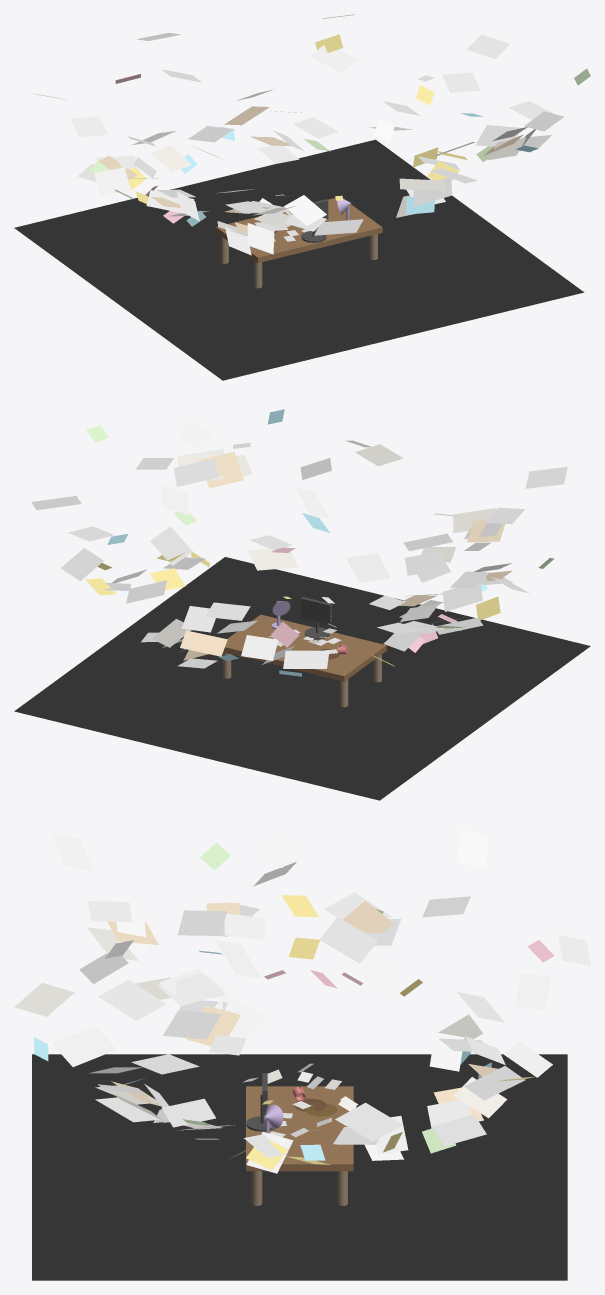
The model's file is desk2.glb.
3 views of the same model, one above another, from view 1: azimuth 30°, elevation 25°; view 2: azimuth 150°, elevation 25°; view 3: azimuth 270°, elevation 25° (orthographic). The views are drawn at different scales.
Visible parts, largest first — view 1: Floor, Office_Desk, Flying_Paper_22.001, Flying_Paper_15, Flying_Paper_19.001, Folder_5_Paper_3, Flying_Paper_18, Flying_Paper_18.001, Flying_Paper_12.001, Flying_Paper_21.001, Flying_Paper_7, Flying_Paper_17.001 (+3 smaller); view 2: Floor, Office_Desk, Flying_Paper_7, Flying_Paper_9, Folder_7_Paper_4, Flying_Paper_12, Flying_Folder_7, Flying_Paper_8.001, Flying_Folder_6, Flying_Paper_19, Flying_Paper_14.001, Folder_6_Paper_1 (+12 smaller); view 3: Floor, Office_Desk, Flying_Paper_16, Flying_Paper_15.001, Folder_3_Paper_1, Flying_Paper_18, Folder_5_Paper_3, Folder_2_Paper_1, Flying_Paper_24.001, Flying_Paper_20.001, Flying_Paper_11.001, Flying_Paper_19.001 (+26 smaller).
Boxes of the visible parts, left/top/right/bottom form: Floor: left=14, top=139, right=584, bottom=380; Office_Desk: left=216, top=198, right=382, bottom=262; Flying_Paper_22.001: left=94, top=167, right=131, bottom=195; Flying_Paper_15: left=284, top=195, right=326, bottom=225; Flying_Paper_19.001: left=309, top=45, right=357, bottom=72; Folder_5_Paper_3: left=247, top=223, right=274, bottom=254; Flying_Paper_18: left=466, top=34, right=510, bottom=58; Flying_Paper_18.001: left=442, top=72, right=480, bottom=92; Flying_Paper_12.001: left=151, top=145, right=191, bottom=172; Flying_Paper_21.001: left=70, top=116, right=108, bottom=137; Flying_Paper_7: left=314, top=219, right=363, bottom=235; Flying_Paper_17.001: left=476, top=125, right=521, bottom=146; Floor: left=14, top=557, right=590, bottom=800; Office_Desk: left=223, top=614, right=386, bottom=681; Flying_Paper_7: left=346, top=553, right=390, bottom=582; Flying_Paper_9: left=150, top=526, right=192, bottom=565; Folder_7_Paper_4: left=174, top=458, right=218, bottom=486; Flying_Paper_12: left=283, top=650, right=329, bottom=668; Flying_Folder_7: left=200, top=451, right=243, bottom=488; Flying_Paper_8.001: left=247, top=547, right=298, bottom=570; Flying_Folder_6: left=180, top=630, right=227, bottom=656; Flying_Paper_19: left=61, top=548, right=103, bottom=581; Flying_Paper_14.001: left=442, top=583, right=482, bottom=611; Folder_6_Paper_1: left=241, top=635, right=278, bottom=660; Floor: left=32, top=1054, right=567, bottom=1280; Office_Desk: left=246, top=1086, right=353, bottom=1171; Flying_Paper_16: left=51, top=1026, right=116, bottom=1066; Flying_Paper_15.001: left=98, top=979, right=166, bottom=1020; Folder_3_Paper_1: left=319, top=917, right=377, bottom=963; Flying_Paper_18: left=335, top=1102, right=402, bottom=1141; Folder_5_Paper_3: left=163, top=1010, right=221, bottom=1039; Folder_2_Paper_1: left=177, top=910, right=226, bottom=935; Flying_Paper_24.001: left=14, top=983, right=74, bottom=1016; Flying_Paper_20.001: left=515, top=973, right=550, bottom=1009; Flying_Paper_11.001: left=432, top=1114, right=486, bottom=1146; Flying_Paper_19.001: left=464, top=1066, right=525, bottom=1100.
Size of the model in its own units: 6.46 by 2.44 by 5.39.
